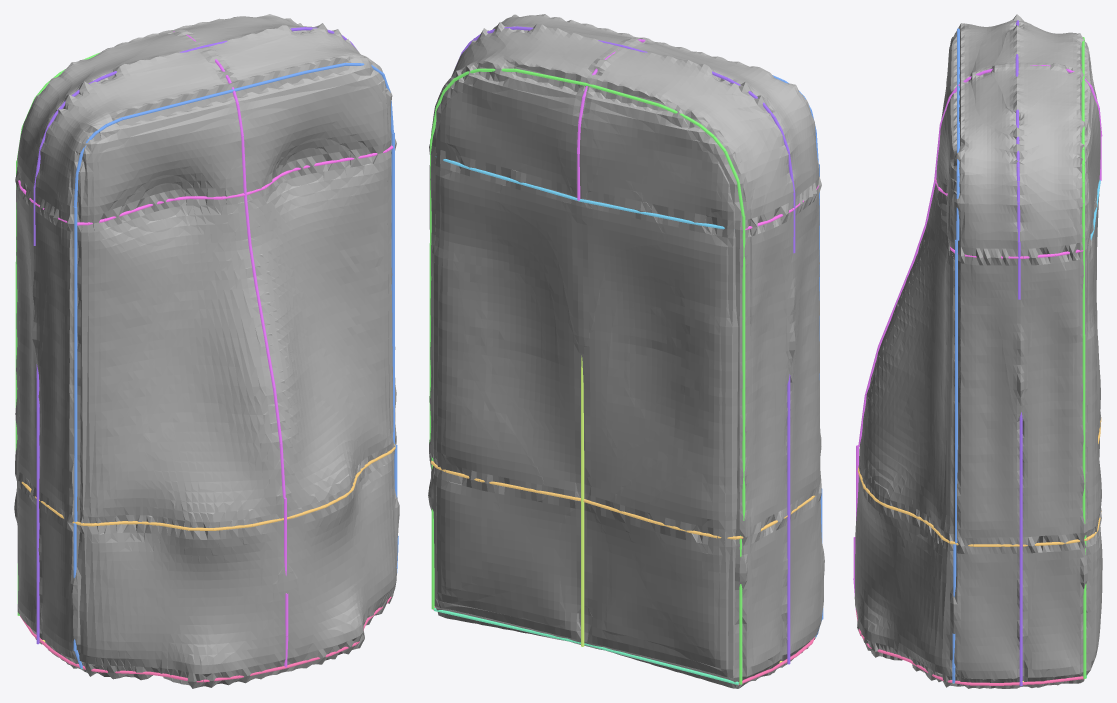
3 views of the same model, side by side, from view 1: azimuth 30°, elevation 25°; view 2: azimuth 150°, elevation 25°; view 3: azimuth 270°, elevation 25° (orthographic). The views are drawn at different scales.
Size of the model in its own units: 0.5055 by 0.8134 by 0.3306.
